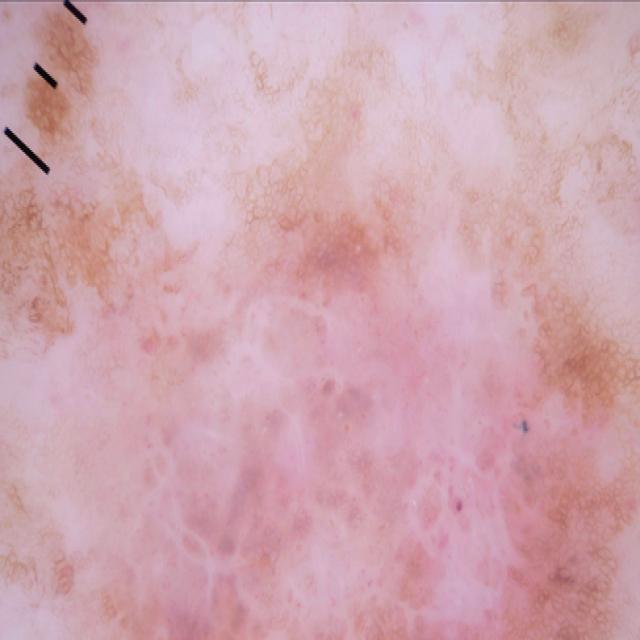Dermatofibroma: (154, 250, 640, 640), (0, 27, 130, 270), (0, 528, 117, 640)
